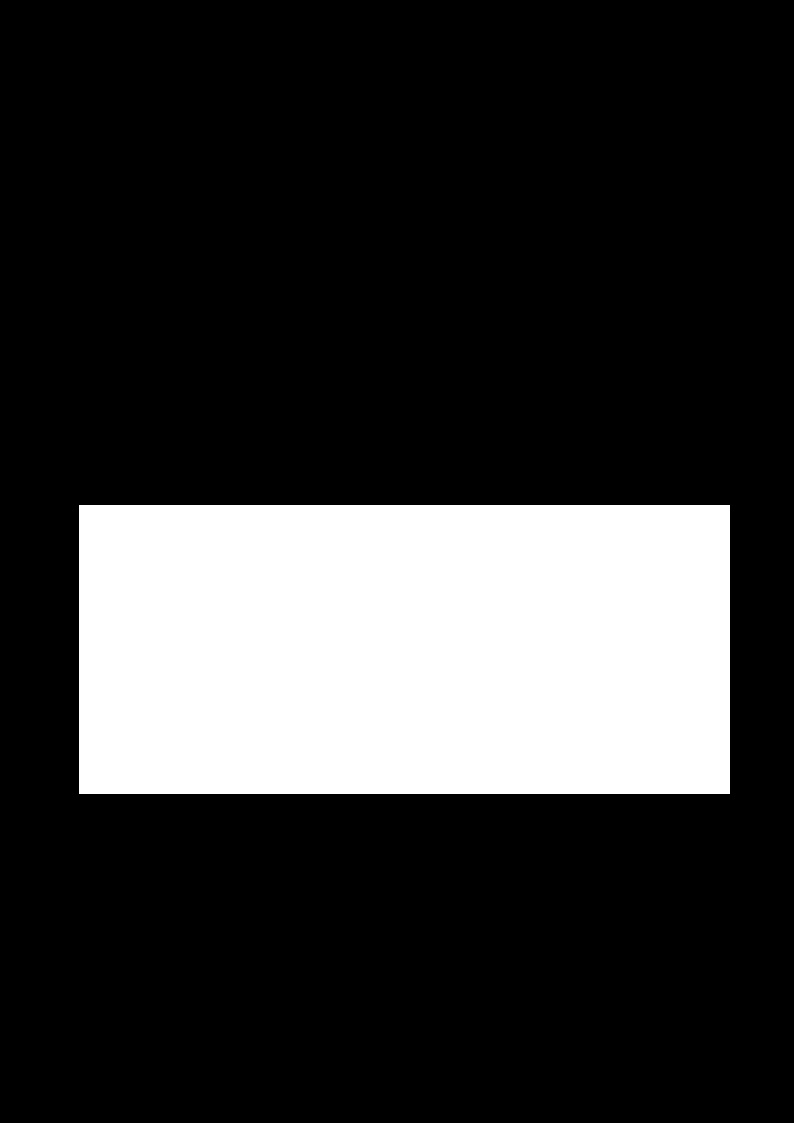table: (79, 505, 729, 793)
